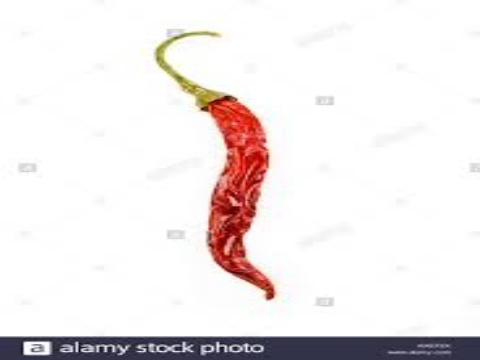Chilli: (143, 23, 300, 307)
